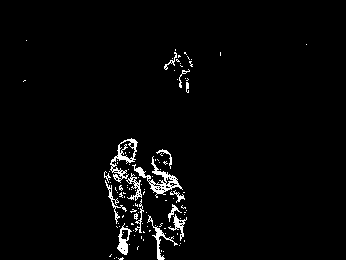person: (146, 150, 187, 260), (105, 137, 142, 256)
